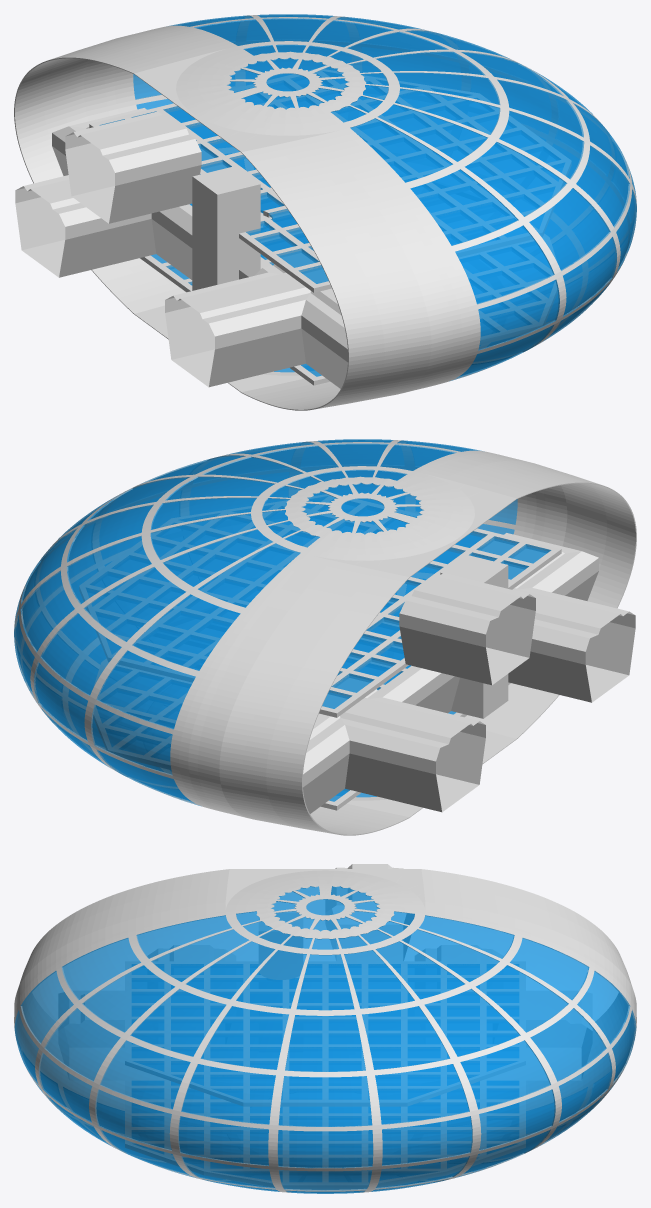
File: Front Room - Edited.fbx
The picture shows the model from 3 angles, top to bottom: view 1: azimuth 30°, elevation 25°; view 2: azimuth 150°, elevation 25°; view 3: azimuth 270°, elevation 25°; orthographic projection. The views are drawn at different scales.
Visible parts, largest first — view 1: Front Grid, Front WIndow, Walls, Deck 2 Windows, Deck 2 Grid, Ladder, Deck 1 Windows, Deck 1 Grid; view 2: Front Grid, Front WIndow, Walls, Deck 2 Windows, Deck 2 Grid, Deck 1 Windows, Deck 1 Grid, Ladder; view 3: Front WIndow, Front Grid, Deck 2 Windows, Deck 2 Grid, Walls, Deck 1 Windows, Deck 1 Grid, Ladder.
Boxes of the visible parts, x1,y1,x2,y2 form: Front Grid: [14, 15, 636, 410]; Front WIndow: [133, 14, 636, 381]; Walls: [15, 108, 348, 388]; Deck 2 Windows: [100, 73, 564, 283]; Deck 2 Grid: [89, 69, 571, 292]; Ladder: [192, 166, 260, 290]; Deck 1 Windows: [151, 180, 554, 376]; Deck 1 Grid: [140, 176, 557, 385]; Front Grid: [14, 440, 636, 835]; Front WIndow: [14, 439, 517, 806]; Walls: [302, 533, 635, 813]; Deck 2 Windows: [87, 498, 550, 708]; Deck 2 Grid: [79, 494, 561, 717]; Deck 1 Windows: [97, 605, 456, 801]; Deck 1 Grid: [93, 601, 510, 810]; Ladder: [440, 554, 508, 718]; Front WIndow: [14, 886, 636, 1193]; Front Grid: [14, 869, 636, 1192]; Deck 2 Windows: [132, 964, 518, 1098]; Deck 2 Grid: [125, 961, 525, 1106]; Walls: [58, 864, 592, 1080]; Deck 1 Windows: [132, 1081, 518, 1181]; Deck 1 Grid: [125, 1081, 525, 1188]; Ladder: [259, 913, 302, 979].
Size of the model in its own units: 2200 by 1120 by 2797.
